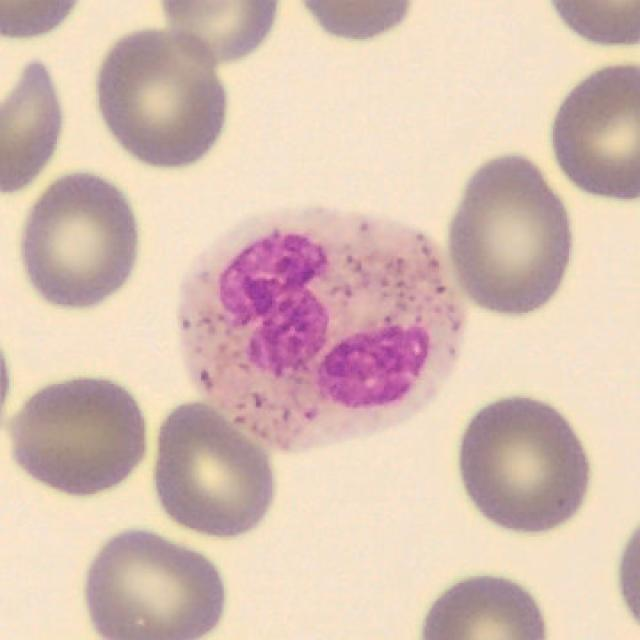Neutrofilo segmentado: (174, 204, 468, 457)
